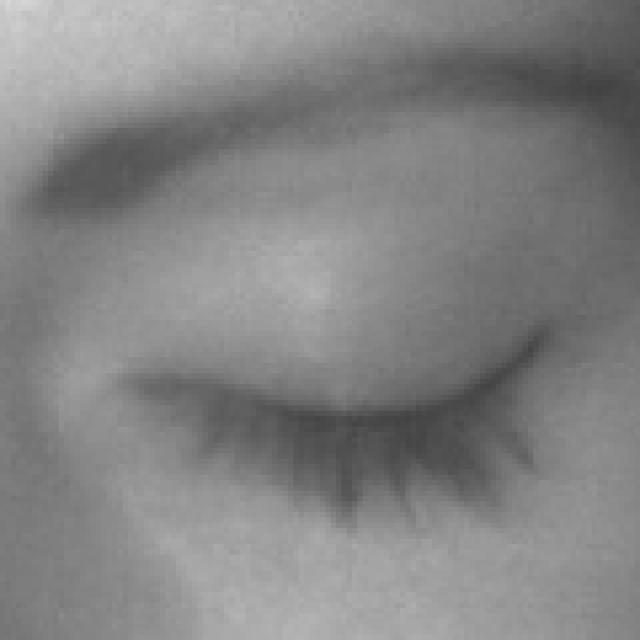Eyeclosed: (164, 222, 562, 630)
